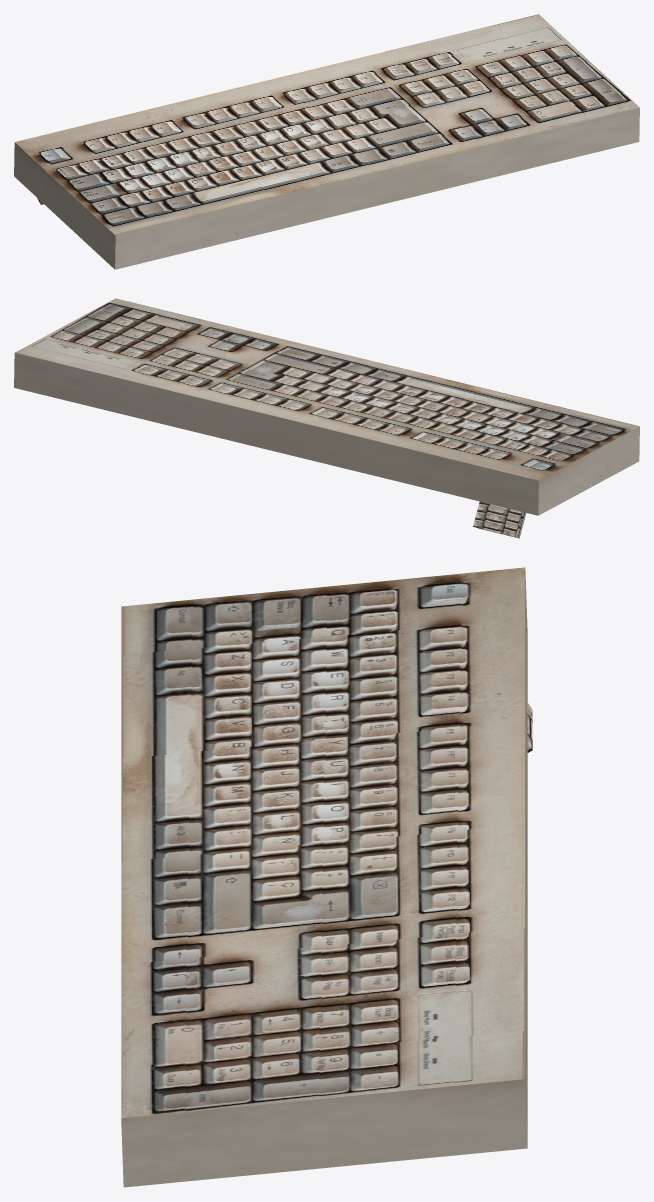
File: keyboard.fbx
3 renders of one model, top to bottom at view 1: azimuth 30°, elevation 25°; view 2: azimuth 150°, elevation 25°; view 3: azimuth 270°, elevation 25°, orthographic. The views are drawn at different scales.
Parts seen in each view (by area): view 1: Keyboard; view 2: Keyboard; view 3: Keyboard.
Boxes of the visible parts, bbox=[...] form: Keyboard: bbox=[14, 14, 639, 269]; Keyboard: bbox=[14, 298, 639, 538]; Keyboard: bbox=[121, 567, 532, 1187].
Bounding box in the file's own units: 136 × 16.36 × 46.23.
